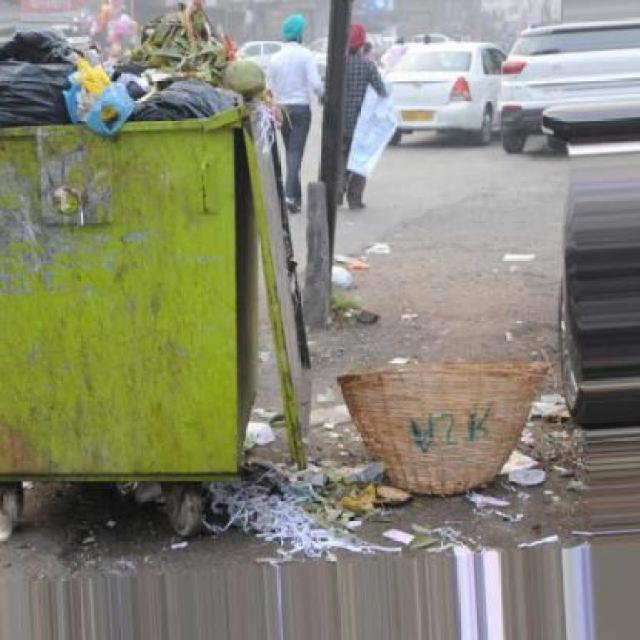garbage: (6, 10, 250, 123), (211, 430, 396, 539)
